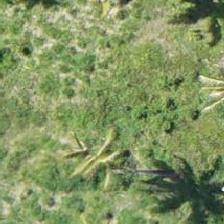coconut_tree: (57, 107, 147, 197)
